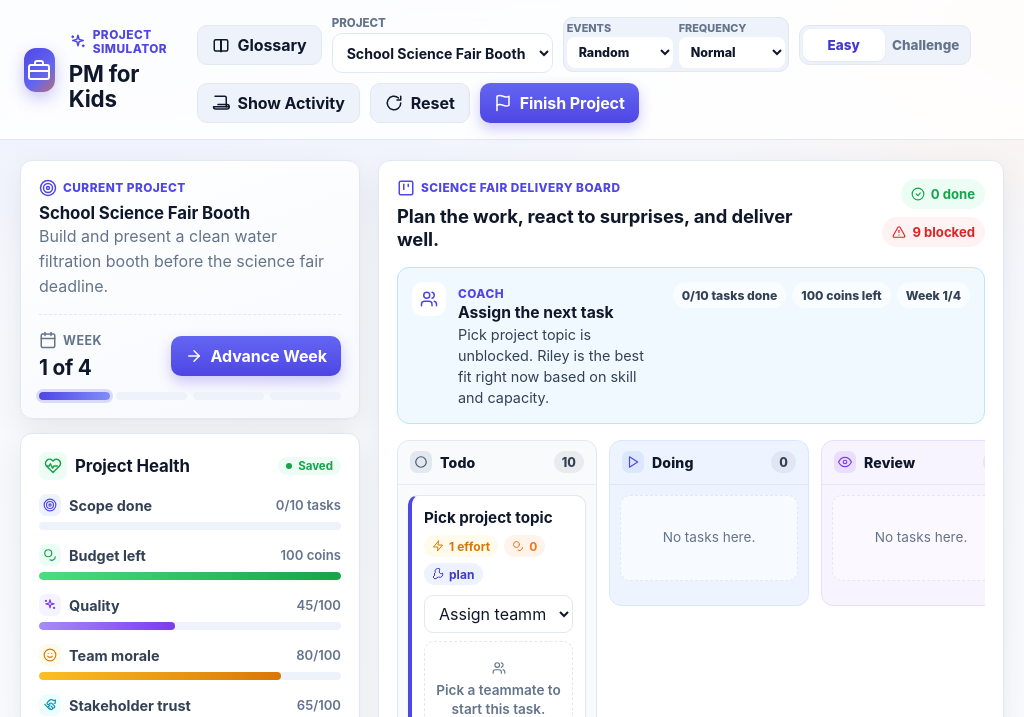
Test: App › opens the glossary from the top bar
Click the button "Glossary": [259, 44] box [196,24,322,64]
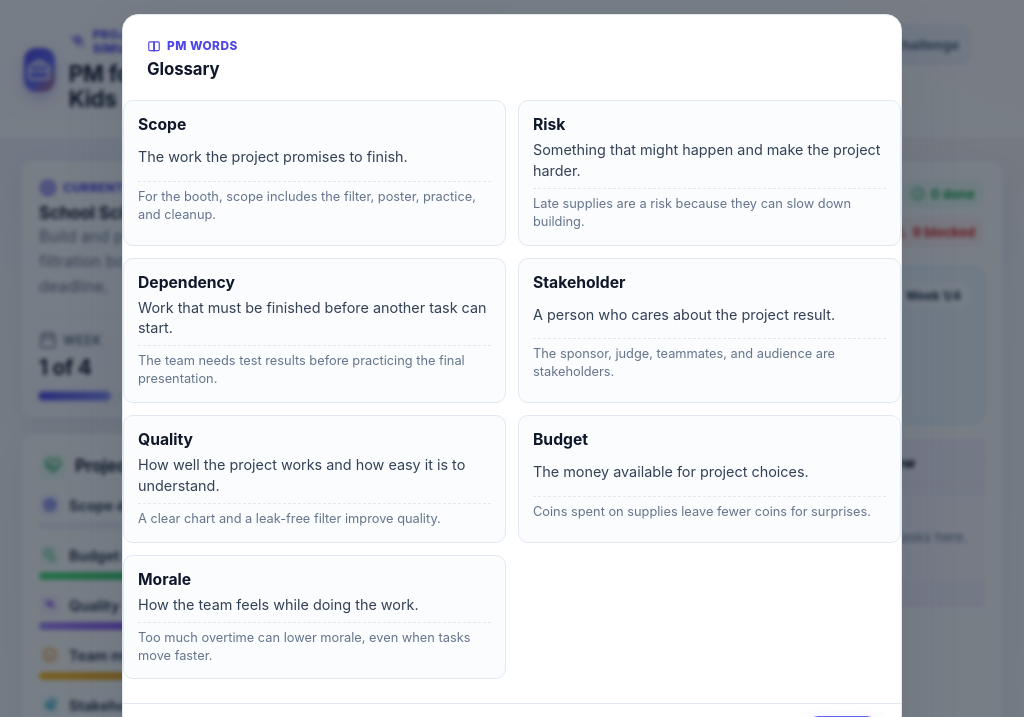
Expected: the text "The work the project promises to finish." is shown, [138,148,408,165]
